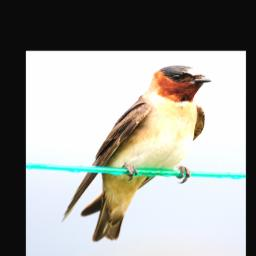Swallow: (61, 65, 213, 243)
